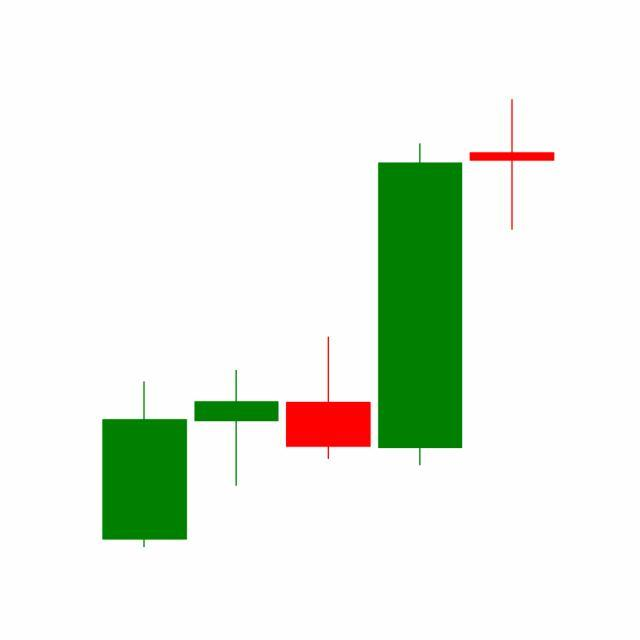Three Outside Up-Down: (280, 100, 555, 471)
